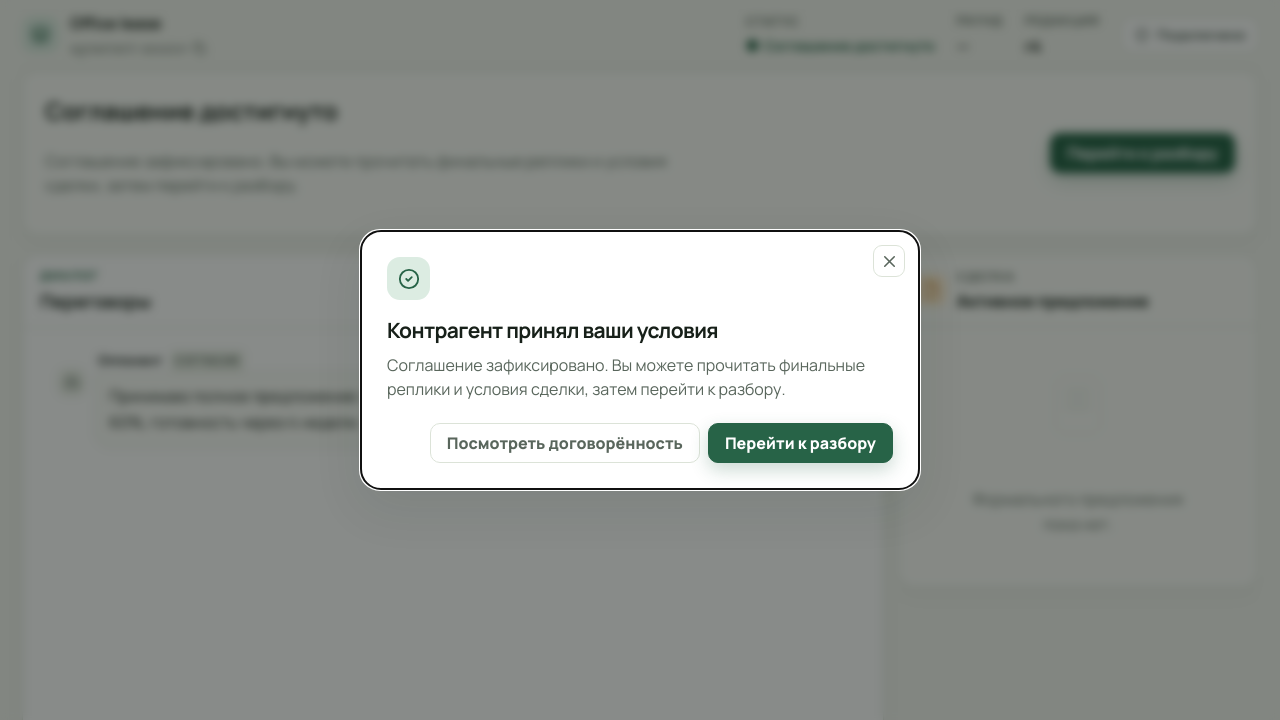
Test: agreement completion › opens the review directly from the dialog and retains the transcript
The width and height of the screenshot is (1280, 720).
Click the button "Перейти к разбору" at (800, 443), box [708,423,893,463]
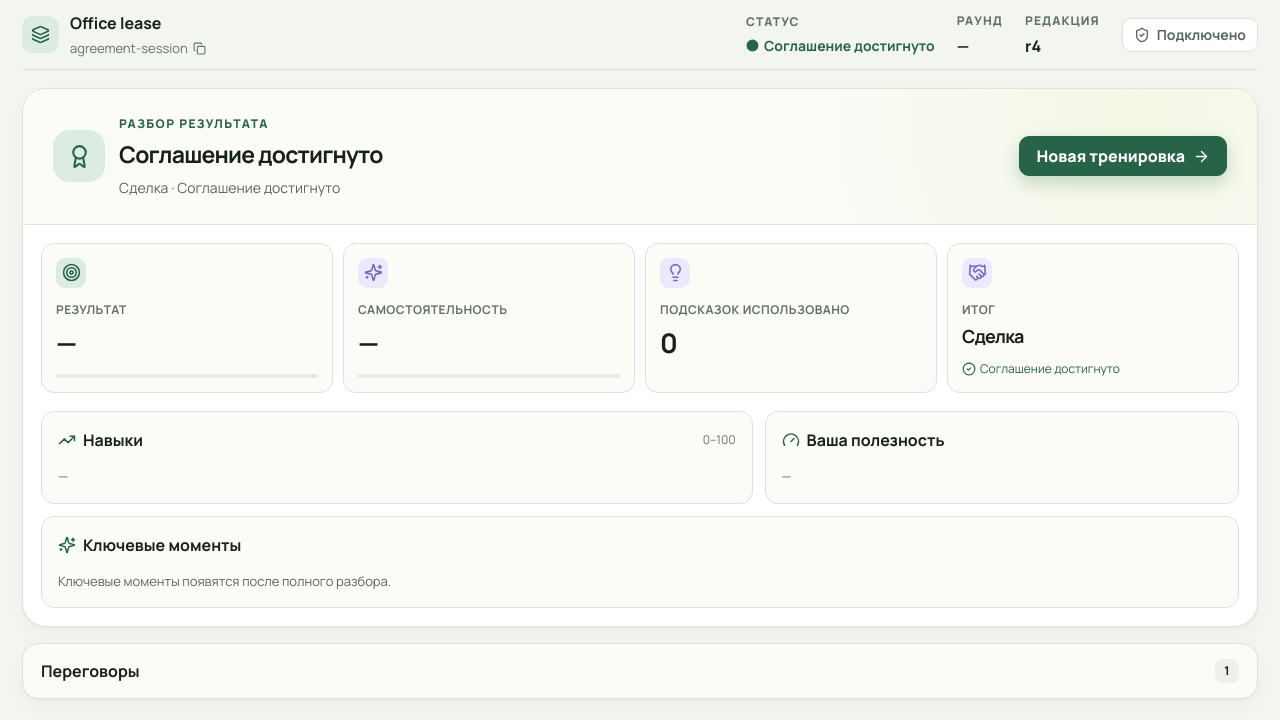
Now the dialog is gone
Now the text "Разбор результата" is shown, box [119,115,269,132]
